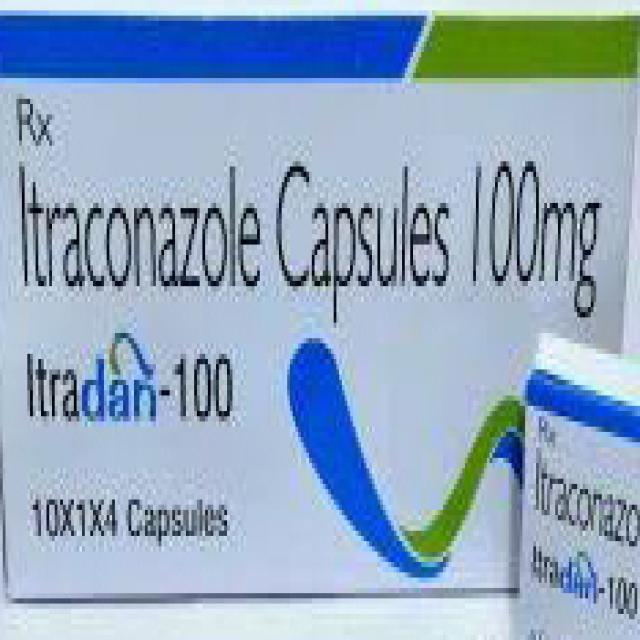drug-name: (22, 346, 238, 423)
